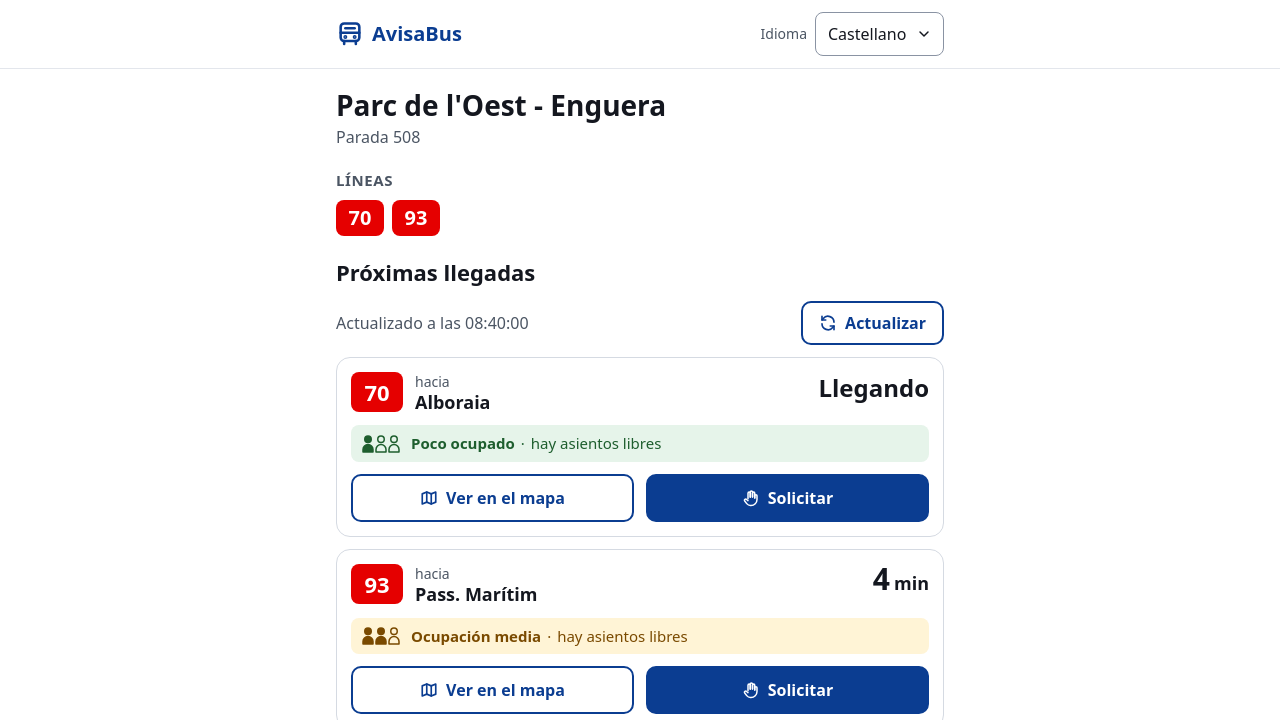
Test: StopPage with stop requests › with the request dialog open › [passenger_alert_ui.AC-11] the event of the own request arriving before the response of the POST also moves the focus
The width and height of the screenshot is (1280, 720).
Later steps or results of the test are not shown.
Click the button named "Solicitar parada a la línea 93 hacia Passeig Marítim - Hospital Malva-rosa". click: (788, 690)
box: top-left (646, 666), bottom-right (929, 714)
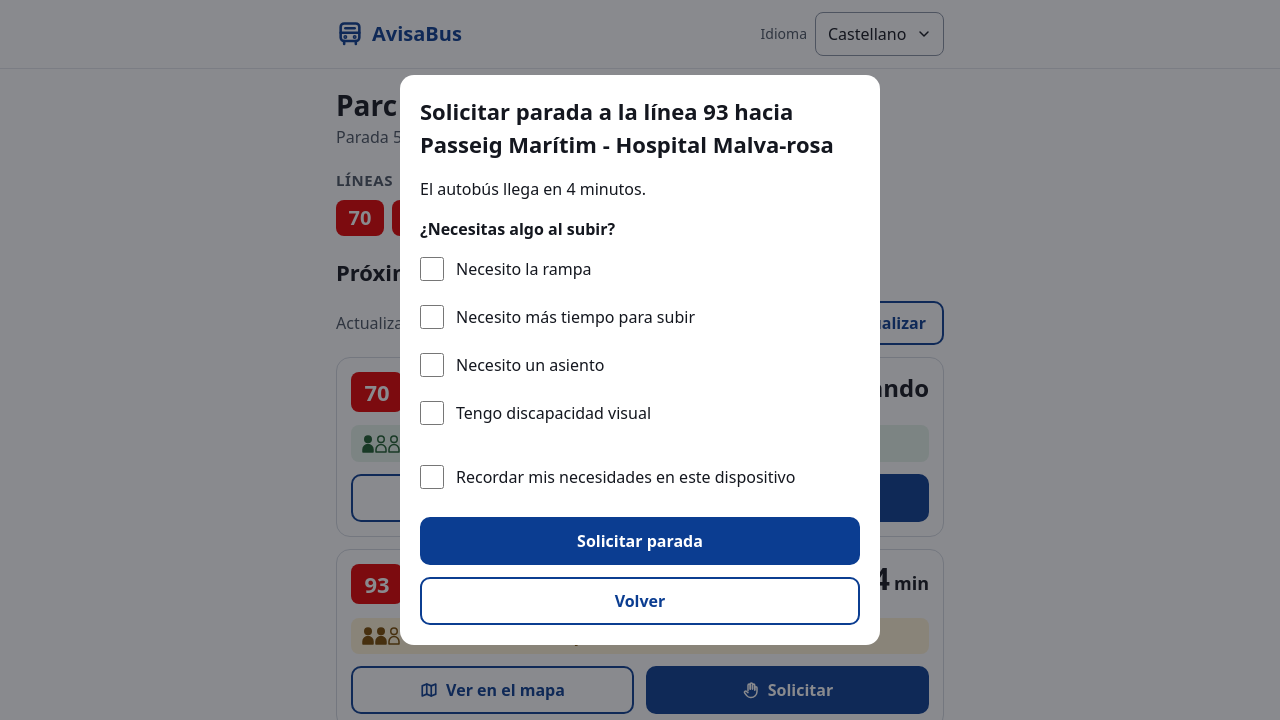
Click the button "Solicitar parada". click: (640, 541)
box: top-left (420, 517), bottom-right (860, 565)
Wait 200 ms
(page scrolled)
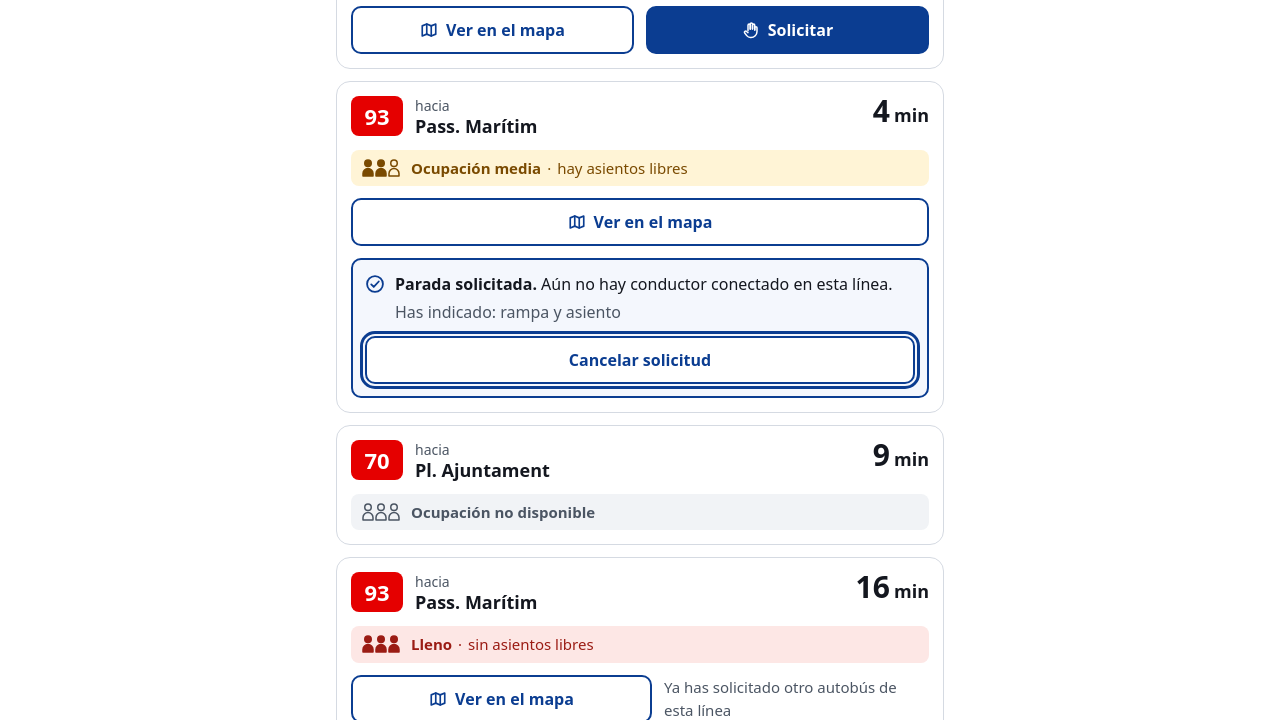
Now the dialog is gone
